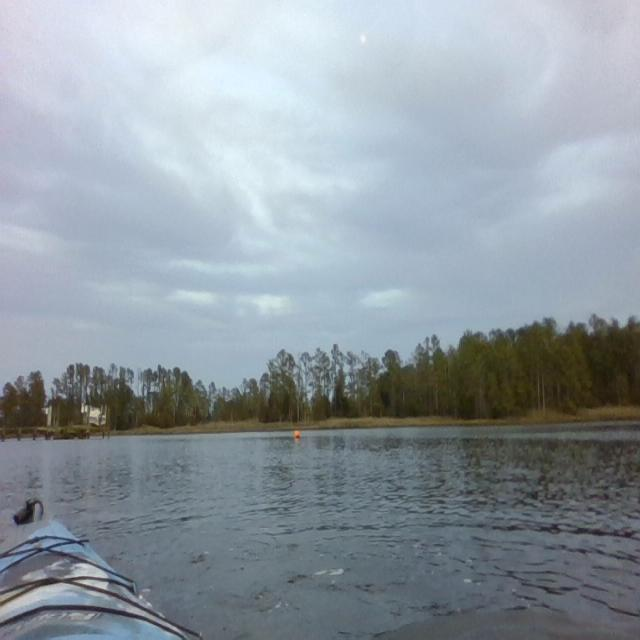Buoy: (292, 426, 302, 441)
